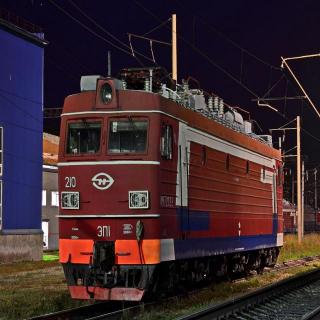poezd: (58, 81, 285, 297)
